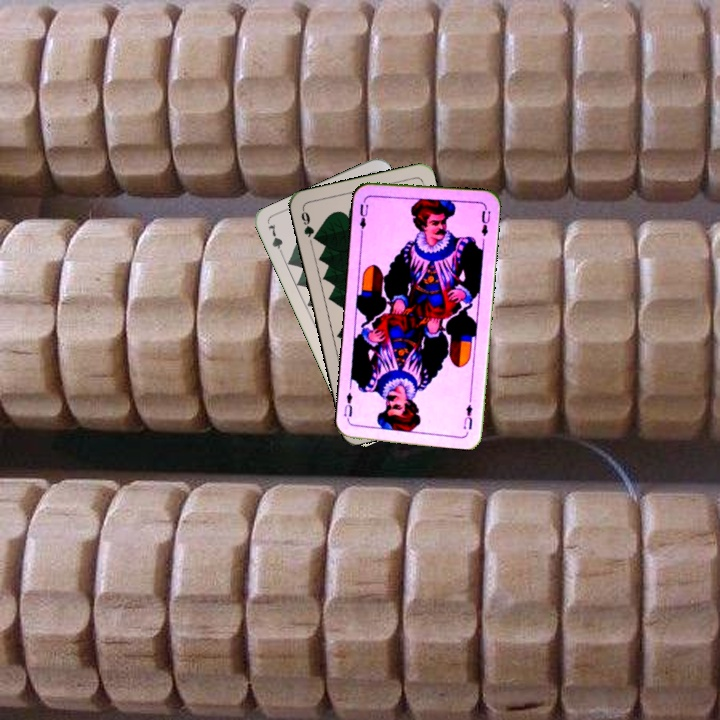EU: (356, 195, 371, 236), (459, 400, 475, 432)
G7: (264, 220, 286, 260)
G9: (297, 205, 321, 244)
